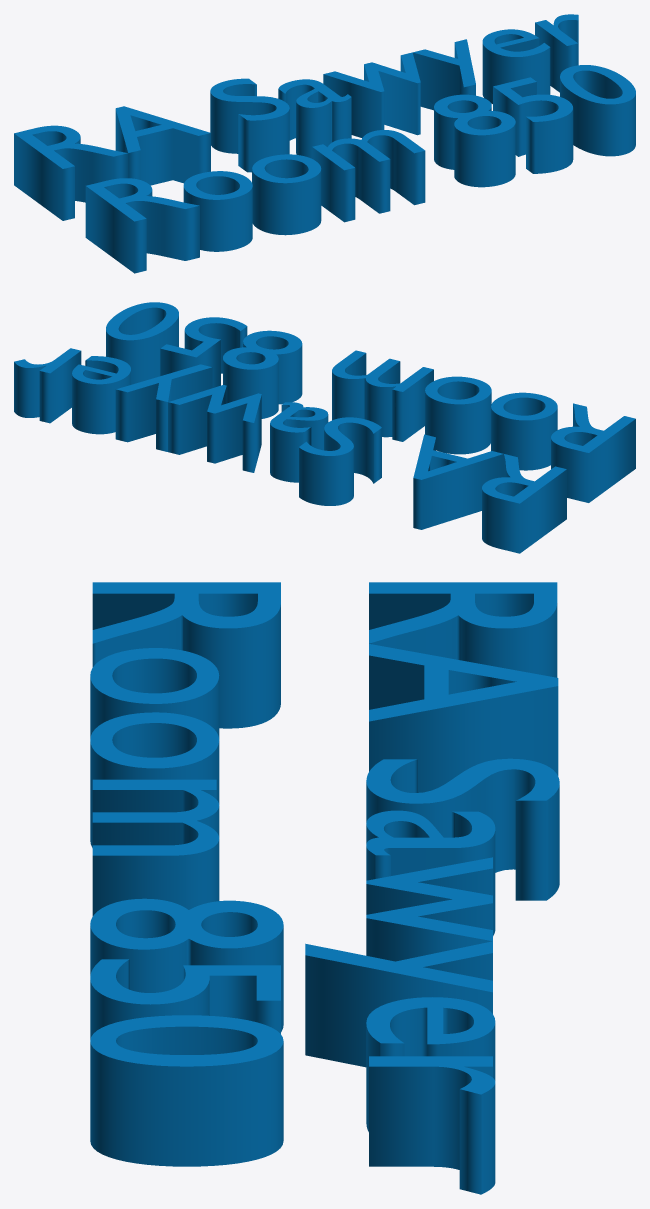
File: ra-sawyer-850.gltf
3 renders of one model, top to bottom at view 1: azimuth 30°, elevation 25°; view 2: azimuth 150°, elevation 25°; view 3: azimuth 270°, elevation 25°, orthographic. The views are drawn at different scales.
Parts seen in each view (by area): view 1: Text; view 2: Text; view 3: Text.
Part boxes in pixels (x1,y1,x2,y2): Text: [14, 14, 635, 273]; Text: [14, 302, 635, 553]; Text: [90, 582, 559, 1194].
Size of the model in its own units: 4.39 by 0.4 by 1.7.
